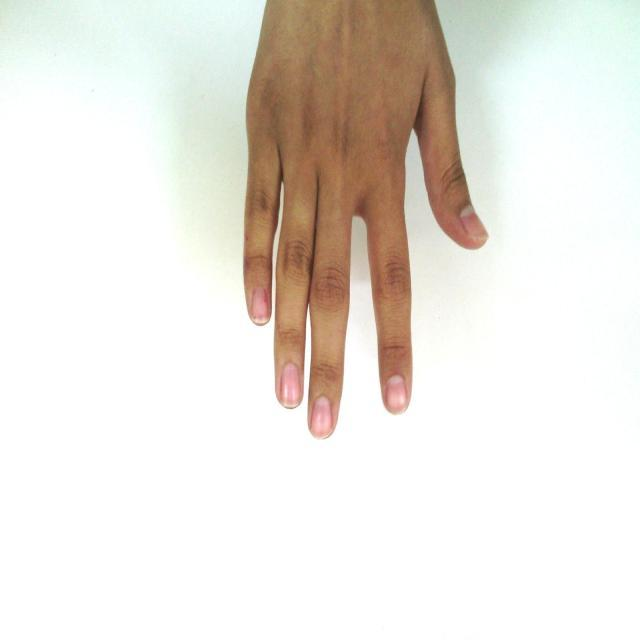Fingernail: (460, 206, 488, 240), (281, 363, 301, 406), (311, 397, 331, 437), (386, 376, 406, 413), (252, 288, 269, 322)
